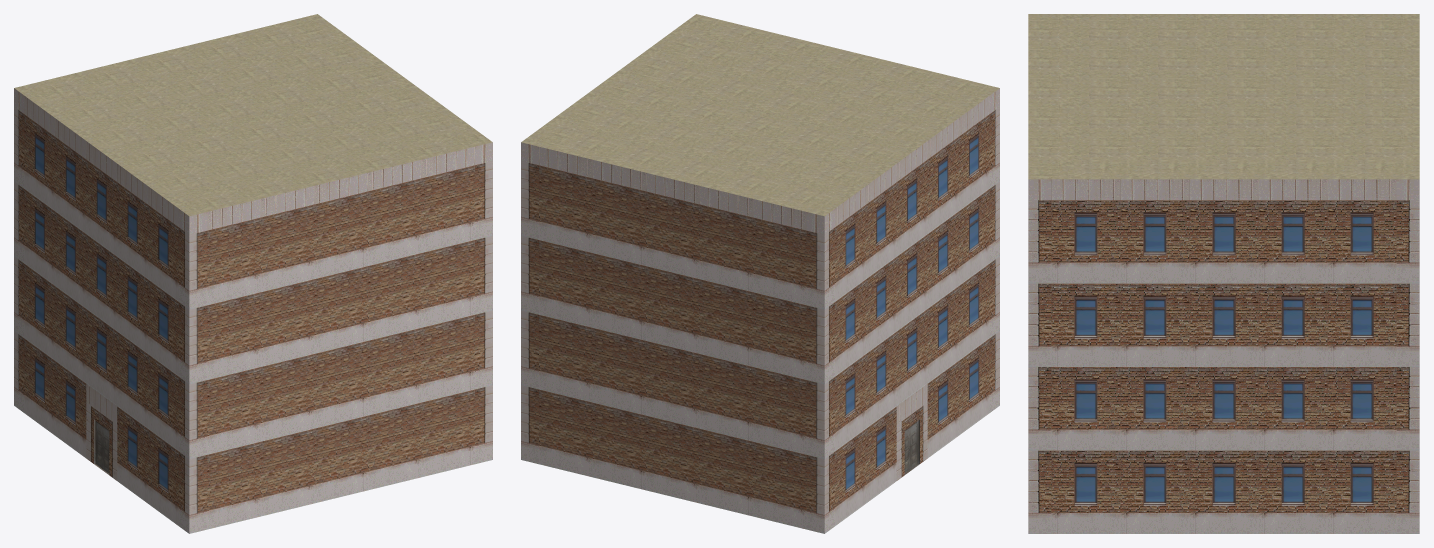
Rendered from flat_square_brick_alt.glb.
The picture shows the model from 3 angles, left to right: view 1: azimuth 30°, elevation 25°; view 2: azimuth 150°, elevation 25°; view 3: azimuth 270°, elevation 25°; orthographic projection. The views are drawn at different scales.
Visible parts, largest first — view 1: flat_square_brick_alt; view 2: flat_square_brick_alt; view 3: flat_square_brick_alt.
Boxes of the visible parts, x1=… form: flat_square_brick_alt: x1=14, y1=14, x2=492, y2=533; flat_square_brick_alt: x1=521, y1=14, x2=999, y2=533; flat_square_brick_alt: x1=1028, y1=14, x2=1419, y2=533.
Size of the model in its own units: 17 by 17 by 17.
1 material, 1 textured.
